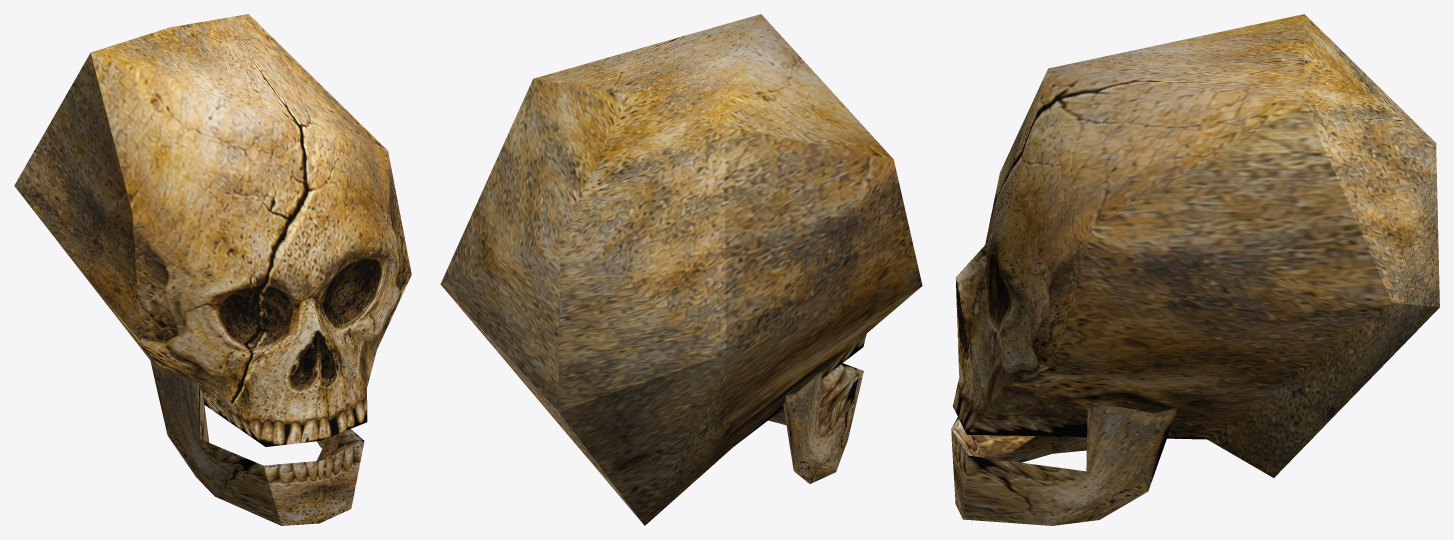
The model's file is mm9_deco_skull.glb.
3 renders of one model, left to right at view 1: azimuth 30°, elevation 25°; view 2: azimuth 150°, elevation 25°; view 3: azimuth 270°, elevation 25°, orthographic. The views are drawn at different scales.
Parts seen in each view (by area): view 1: Skull; view 2: Skull; view 3: Skull.
Part boxes in pixels (x1,y1,x2,y2): Skull: (14,14,411,525); Skull: (440,14,922,525); Skull: (951,14,1439,525).
Size of the model in its own units: 0.2375 by 0.3238 by 0.3177.
Materials: 1 (1 with a texture image).
